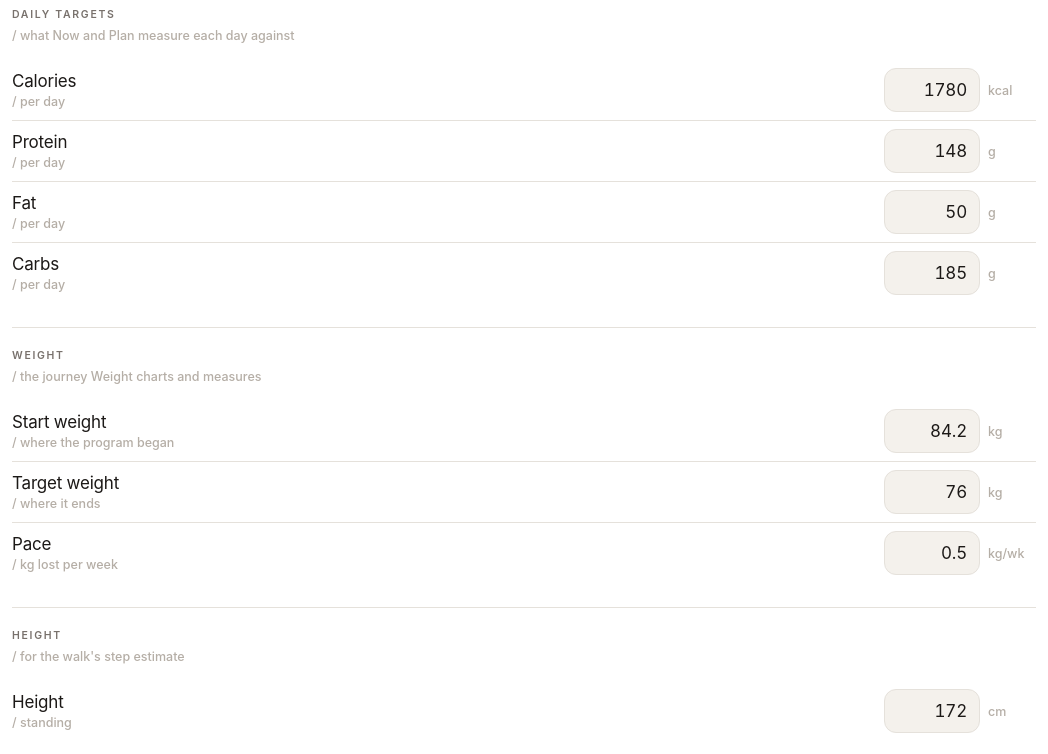
Test case: saving › shows a refusal against its field, and keeps what was typed
Replace the text in the field labelled "Height" with "tall" at (932, 711), box [884,689,980,733]
(page scrolled)
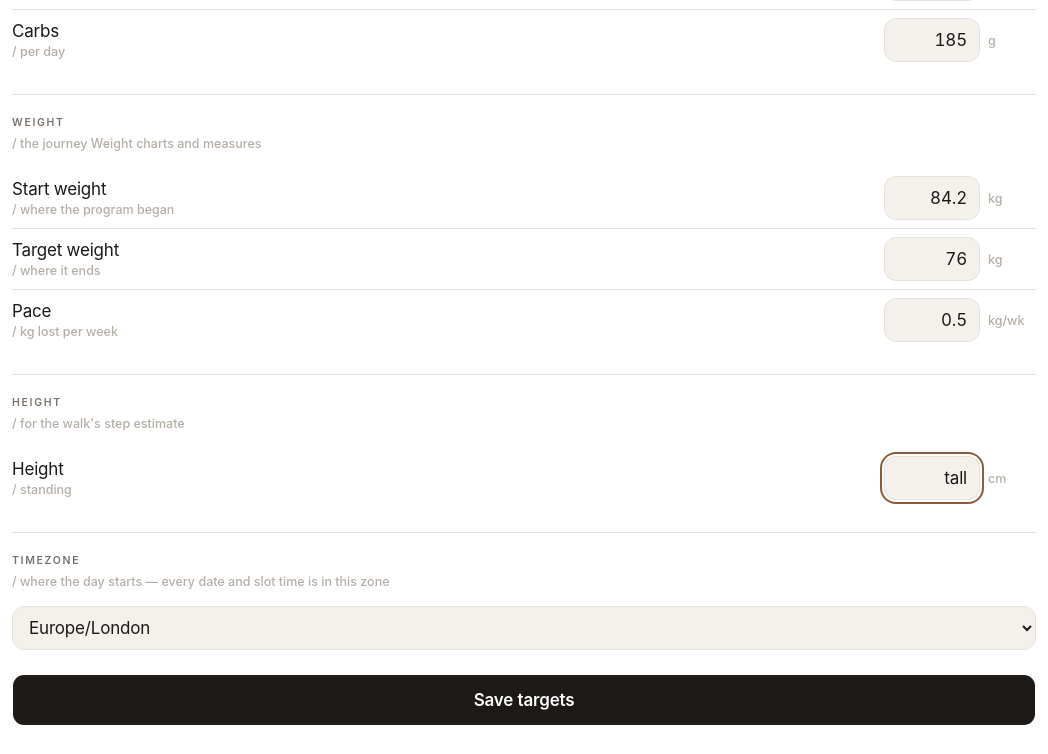
Click the button "Save targets" at (524, 700), box [12,674,1036,726]
(page scrolled)
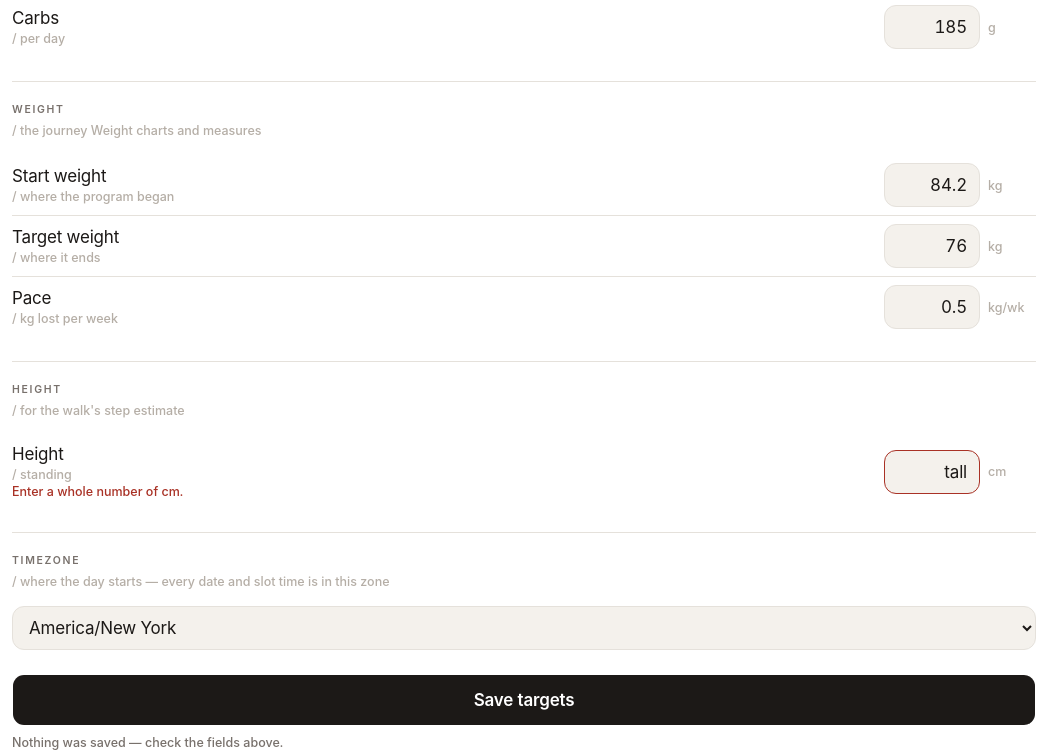
Check: the message reads "Enter a whole number of cm.", box [12,484,183,499]
Check: the text "Nothing was saved — check the fields above." is shown, box [12,735,283,750]
